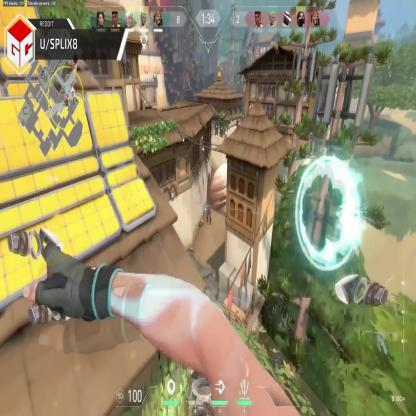enemy: (206, 202, 211, 223)
enemy_head: (207, 204, 210, 209)
